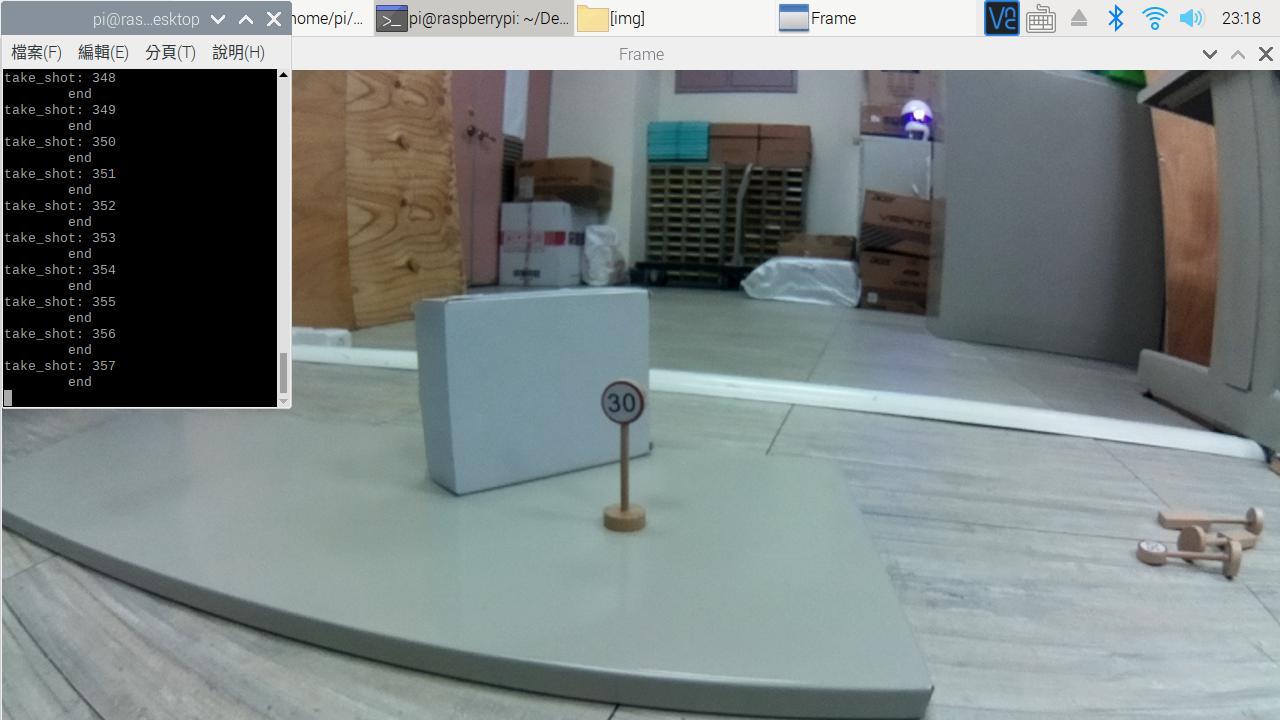Speed30: (594, 373, 657, 442)
